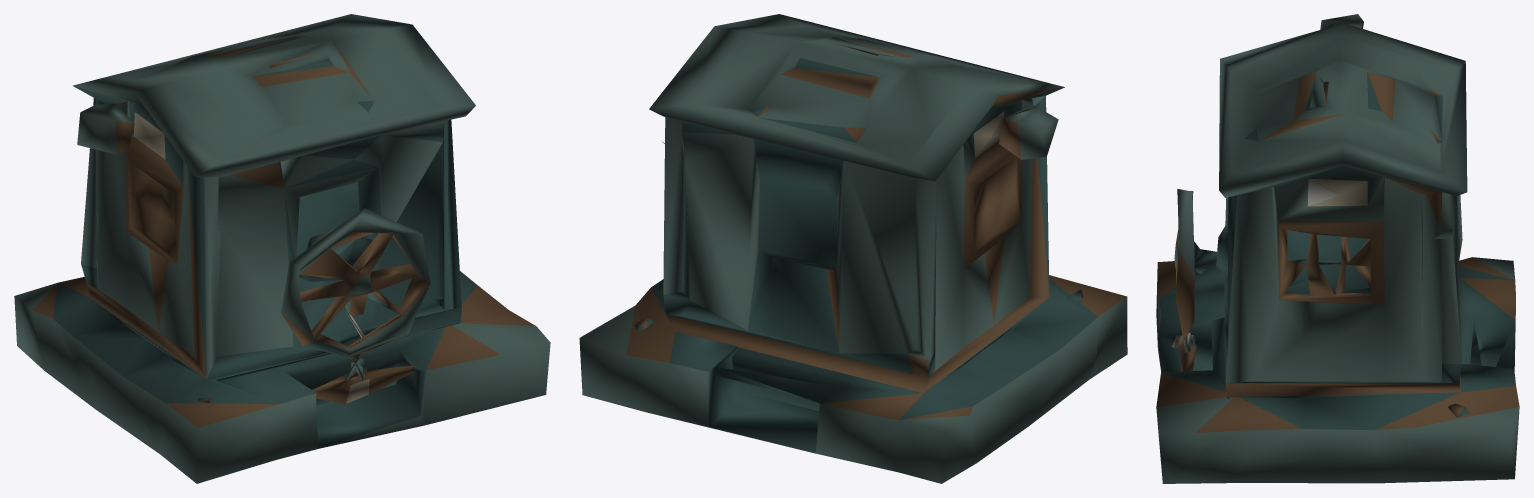
The model's file is gate_wheelhouse_a_lod2_tripo.glb.
The picture shows the model from 3 angles, left to right: view 1: azimuth 30°, elevation 25°; view 2: azimuth 150°, elevation 25°; view 3: azimuth 270°, elevation 25°; orthographic projection. The views are drawn at different scales.
Parts seen in each view (by area): view 1: Surface.001; view 2: Surface.001; view 3: Surface.001.
Boxes of the visible parts, x1,y1,x2,y2 form: Surface.001: [14, 14, 550, 483]; Surface.001: [579, 14, 1127, 483]; Surface.001: [1156, 14, 1519, 483].
Bounding box in the file's own units: 6.95 × 5.58 × 5.86.
